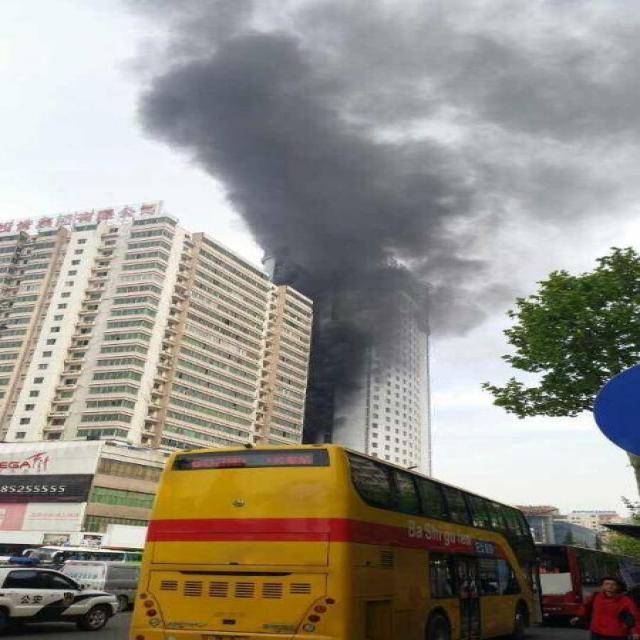Smoke: (106, 0, 640, 443)
